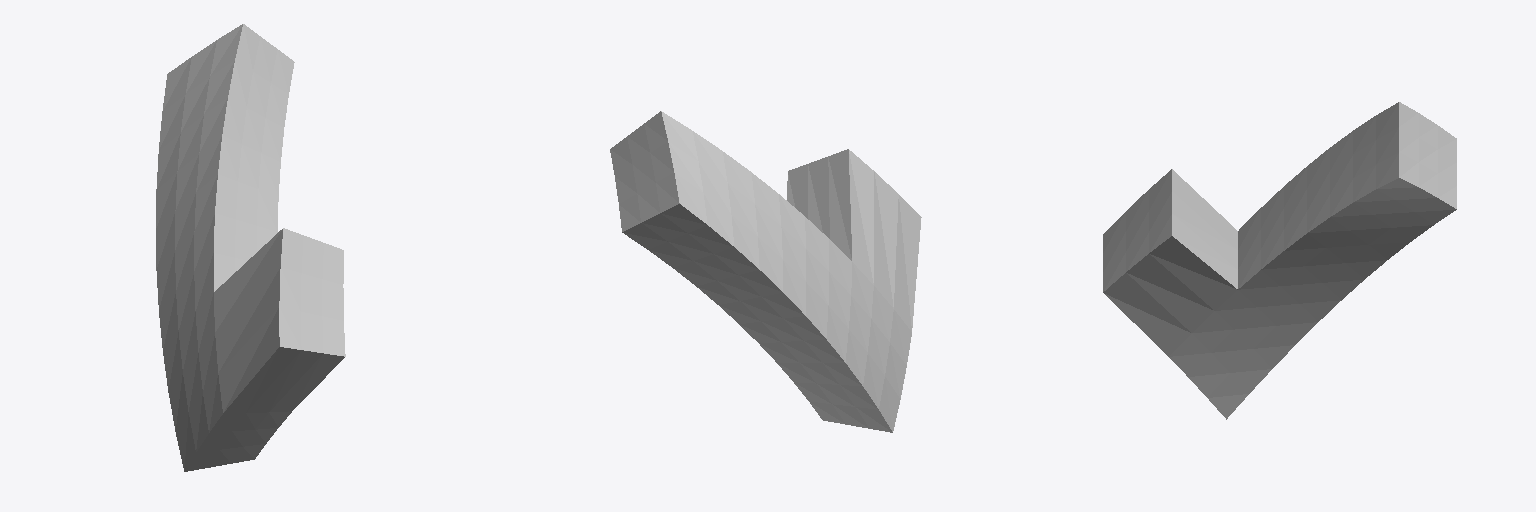
Rendered from mark.obj.
3 renders of one model, left to right at view 1: azimuth 30°, elevation 25°; view 2: azimuth 150°, elevation 25°; view 3: azimuth 270°, elevation 25°, orthographic.
Parts seen in each view (by area): view 1: Cube.1; view 2: Cube.1; view 3: Cube.1.
Boxes of the visible parts, x1,y1,x2,y2 form: Cube.1: [156, 24, 345, 471]; Cube.1: [610, 111, 921, 432]; Cube.1: [1103, 102, 1456, 419].
Size of the model in its own units: 139 by 240 by 217.